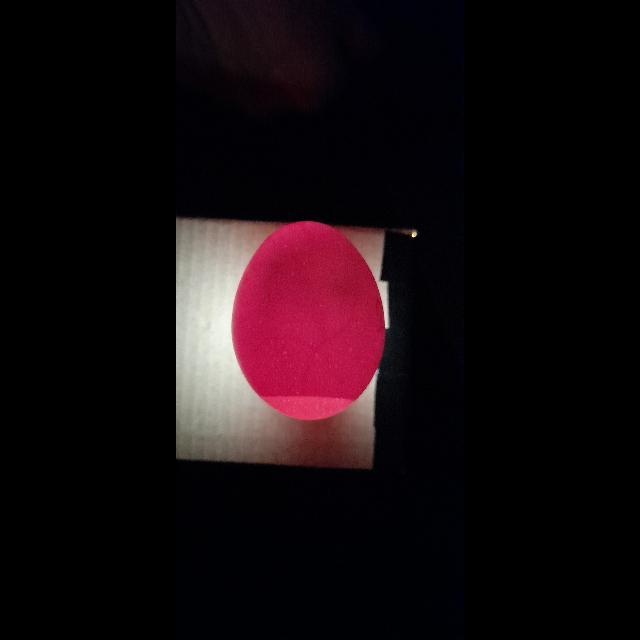Fertile: (230, 218, 388, 418)
